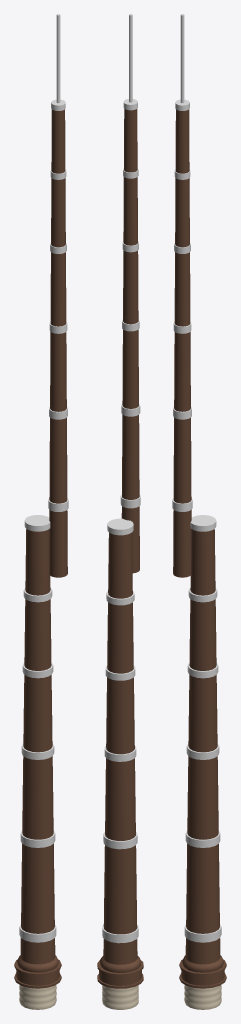
File: mastro.fbx
3 renders of one model, left to right at view 1: azimuth 90°, elevation 25°; view 2: azimuth 150°, elevation 25°; view 3: azimuth 270°, elevation 25°, orthographic.
Parts seen in each view (by area): view 1: Retopo_Mastro_Main; view 2: Retopo_Mastro_Main; view 3: Retopo_Mastro_Main.
Part boxes in pixels (bbox=[...]): Retopo_Mastro_Main: bbox=[14, 14, 68, 1009]; Retopo_Mastro_Main: bbox=[97, 14, 143, 1009]; Retopo_Mastro_Main: bbox=[172, 14, 226, 1009].
Bounding box in the file's own units: 94.94 × 2190 × 109.
